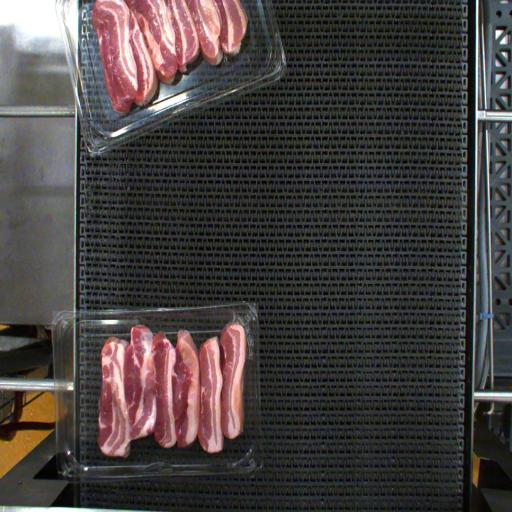packaging-error: (234, 310, 259, 358), (133, 316, 147, 328)
